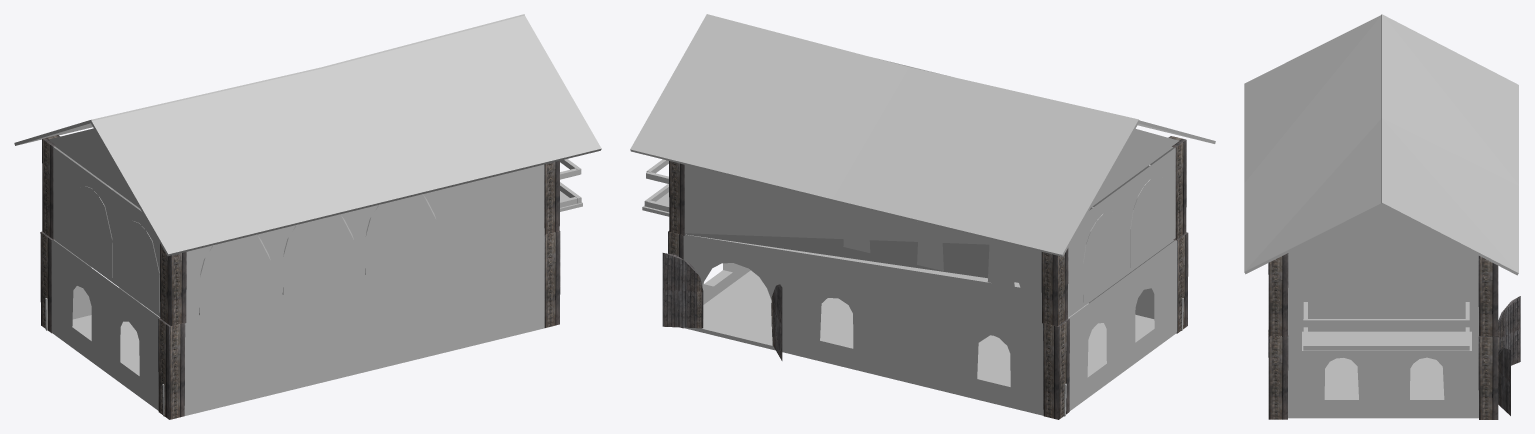
Rendered from tavern_storage_house_LOD2.dae.
3 renders of one model, left to right at view 1: azimuth 30°, elevation 25°; view 2: azimuth 150°, elevation 25°; view 3: azimuth 270°, elevation 25°, orthographic. The views are drawn at different scales.
Parts seen in each view (by area): view 1: DefaultLib2_roof_01, Material2, DefaultLib2_dorwindow_set, DefaultLib1_WoodPlanks_ornaments, DefaultLib2_WoodPlanks; view 2: Material2, DefaultLib2_roof_01, DefaultLib1_WoodPlanks_ornaments, DefaultLib2_dorwindow_set, DefaultLib2_WoodPlanks; view 3: DefaultLib2_roof_01, Material2, DefaultLib1_WoodPlanks_ornaments, DefaultLib2_WoodPlanks, DefaultLib2_dorwindow_set.
Part boxes in pixels (x1,y1,x2,y2): DefaultLib2_roof_01: (14,14,601,256); Material2: (48,128,554,415); DefaultLib2_dorwindow_set: (71,173,436,315); DefaultLib1_WoodPlanks_ornaments: (40,135,560,419); DefaultLib2_WoodPlanks: (45,159,582,416); Material2: (683,129,1178,415); DefaultLib2_roof_01: (630,14,1215,256); DefaultLib1_WoodPlanks_ornaments: (662,136,1188,419); DefaultLib2_dorwindow_set: (706,164,1171,302); DefaultLib2_WoodPlanks: (642,159,1183,416); DefaultLib2_roof_01: (1244,14,1518,275); Material2: (1288,206,1478,418); DefaultLib1_WoodPlanks_ornaments: (1268,253,1520,419); DefaultLib2_WoodPlanks: (1302,302,1471,353); DefaultLib2_dorwindow_set: (1321,267,1451,311).
Bounding box in the file's own units: 26.58 × 14.65 × 15.97.
